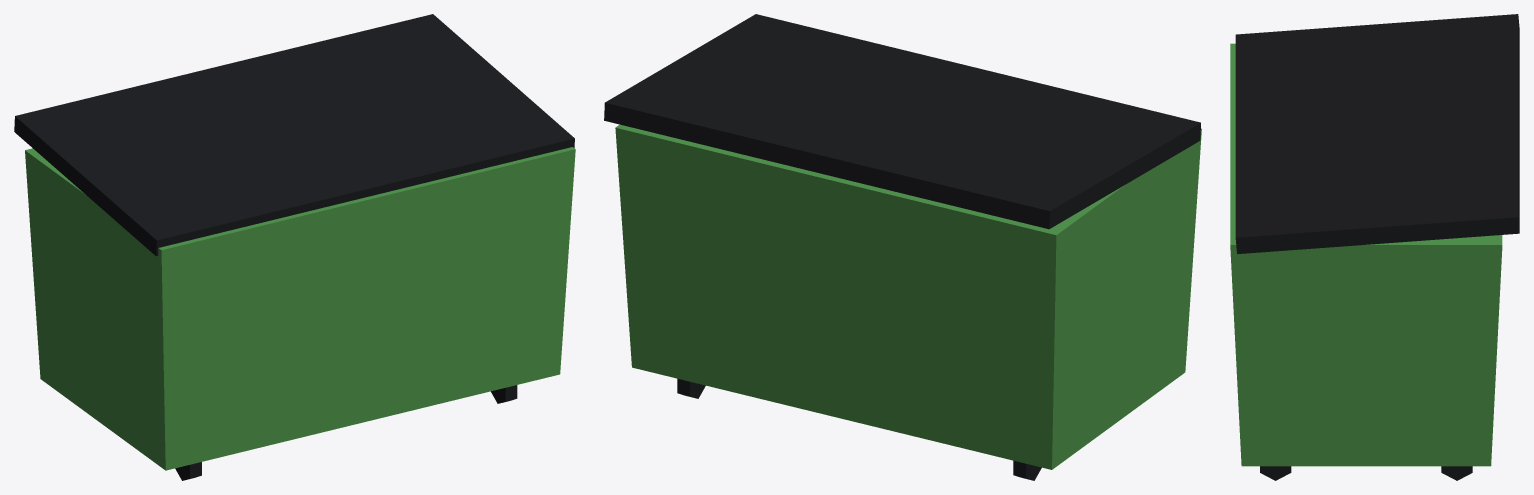
File: dumpster.glb
3 views of the same model, side by side, from view 1: azimuth 30°, elevation 25°; view 2: azimuth 150°, elevation 25°; view 3: azimuth 270°, elevation 25° (orthographic). The views are drawn at different scales.
Visible parts, largest first — view 1: dumpster; view 2: dumpster; view 3: dumpster.
Part boxes in pixels (x1,y1,x2,y2): dumpster: (14, 14, 575, 480); dumpster: (604, 14, 1201, 480); dumpster: (1230, 14, 1519, 480).
Bounding box in the file's own units: 2.12 × 1.39 × 1.28.
